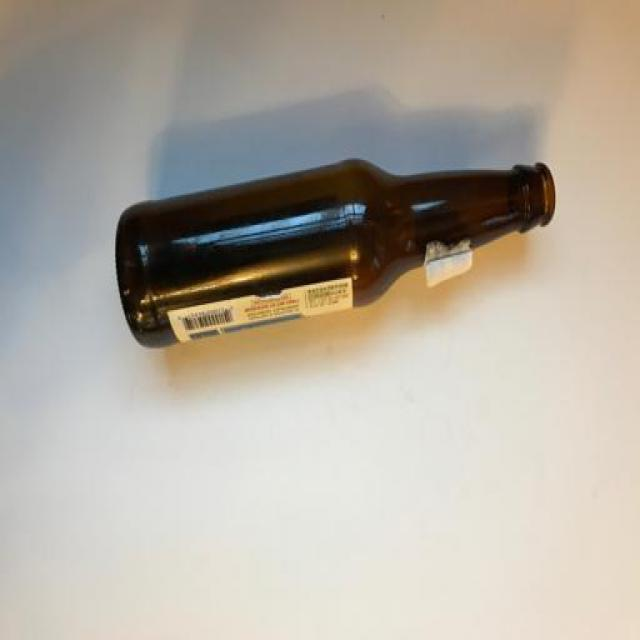glass: (111, 150, 559, 355)
